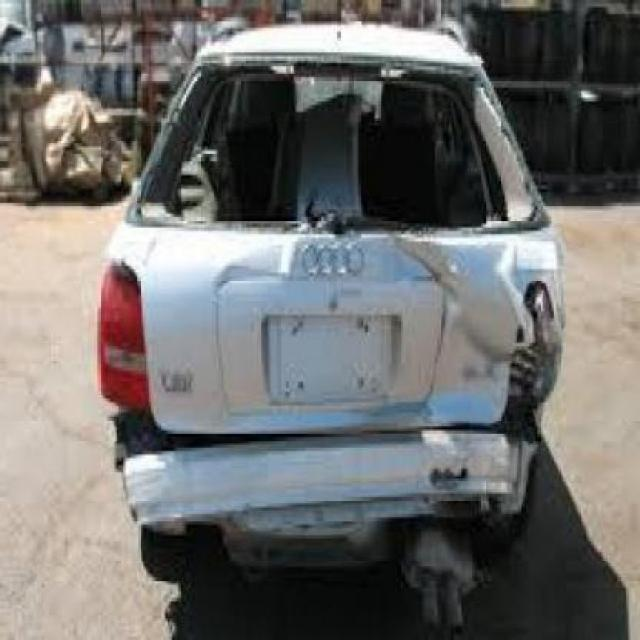damage: (103, 42, 569, 563)
